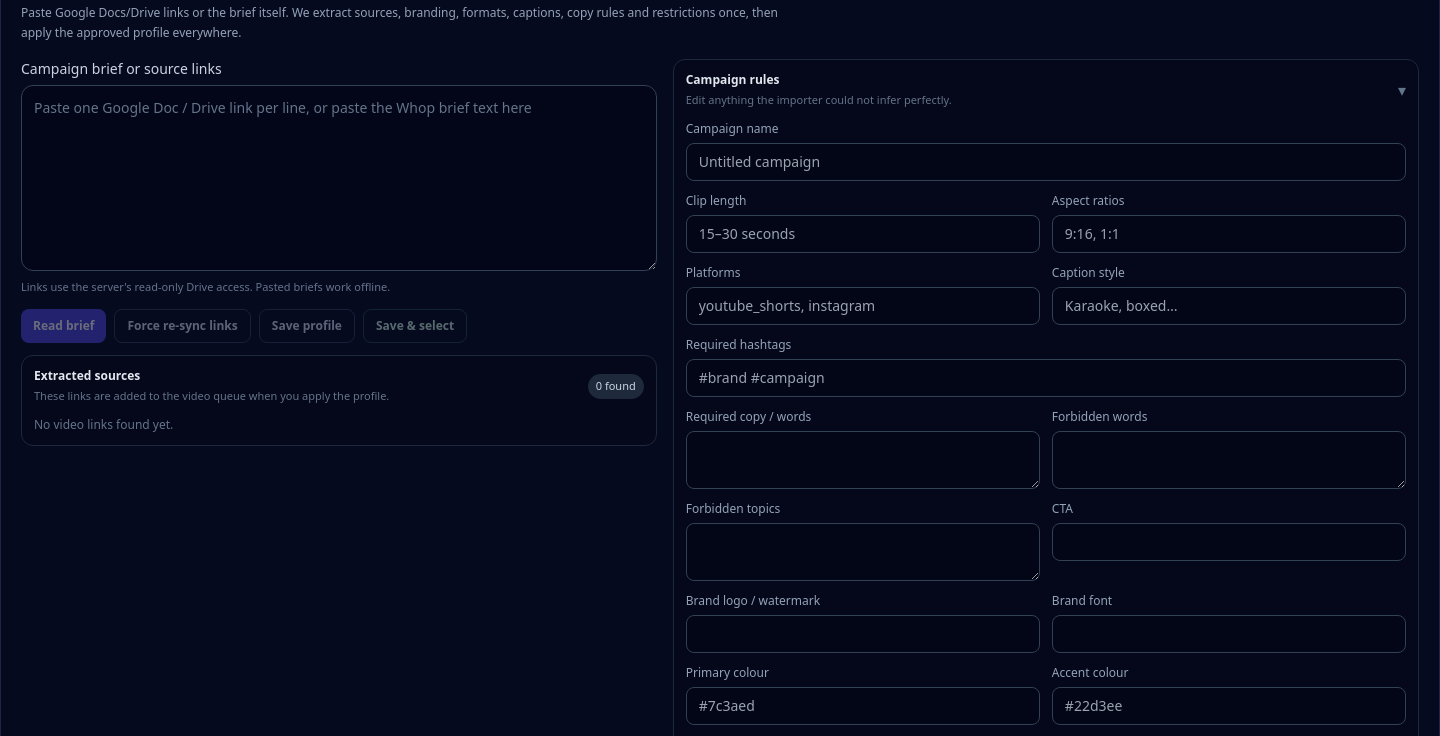
CampaignWorkspacePanel › imports a pasted brief once, shows extracted links, and applies all rules
Type "Campaign: Whop launch" into the text box labelled "Campaign brief or source links" at (339, 178), box [21,85,657,271]
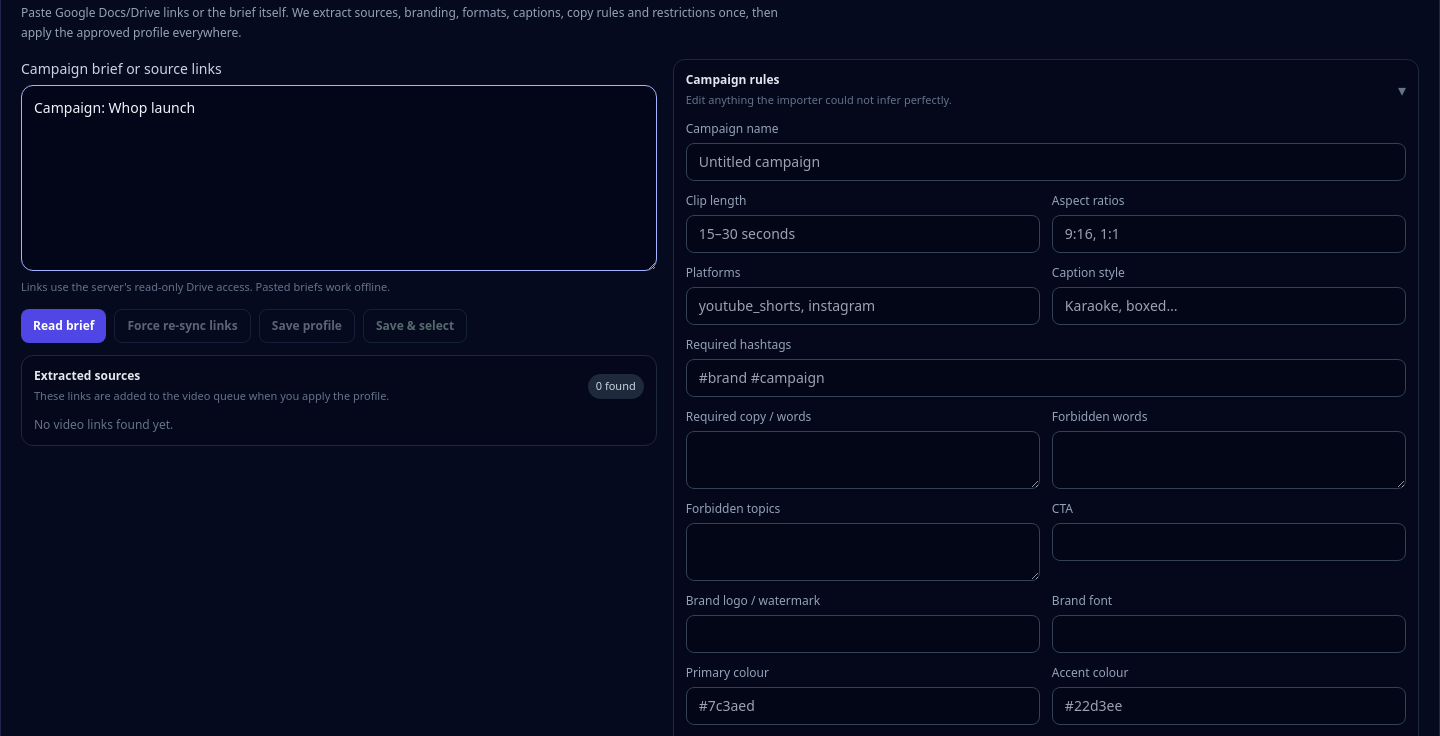
Click the button "Read brief" at (64, 326), box [21,309,106,343]
(page scrolled)
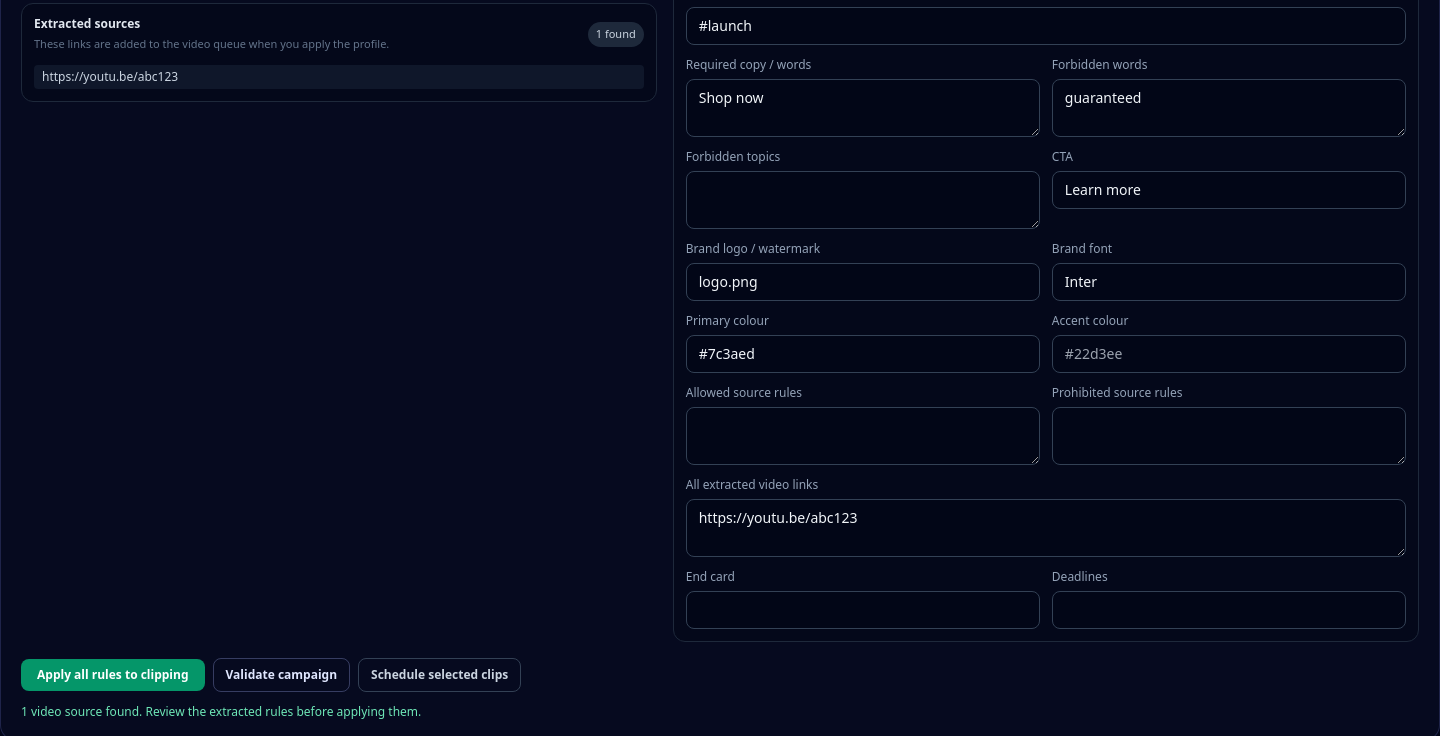
Result: the list item "https://youtu.be/abc123" is shown at [34,64,644,88]
Click the button "Apply all rules to clipping" at (113, 674), box [21,658,204,690]
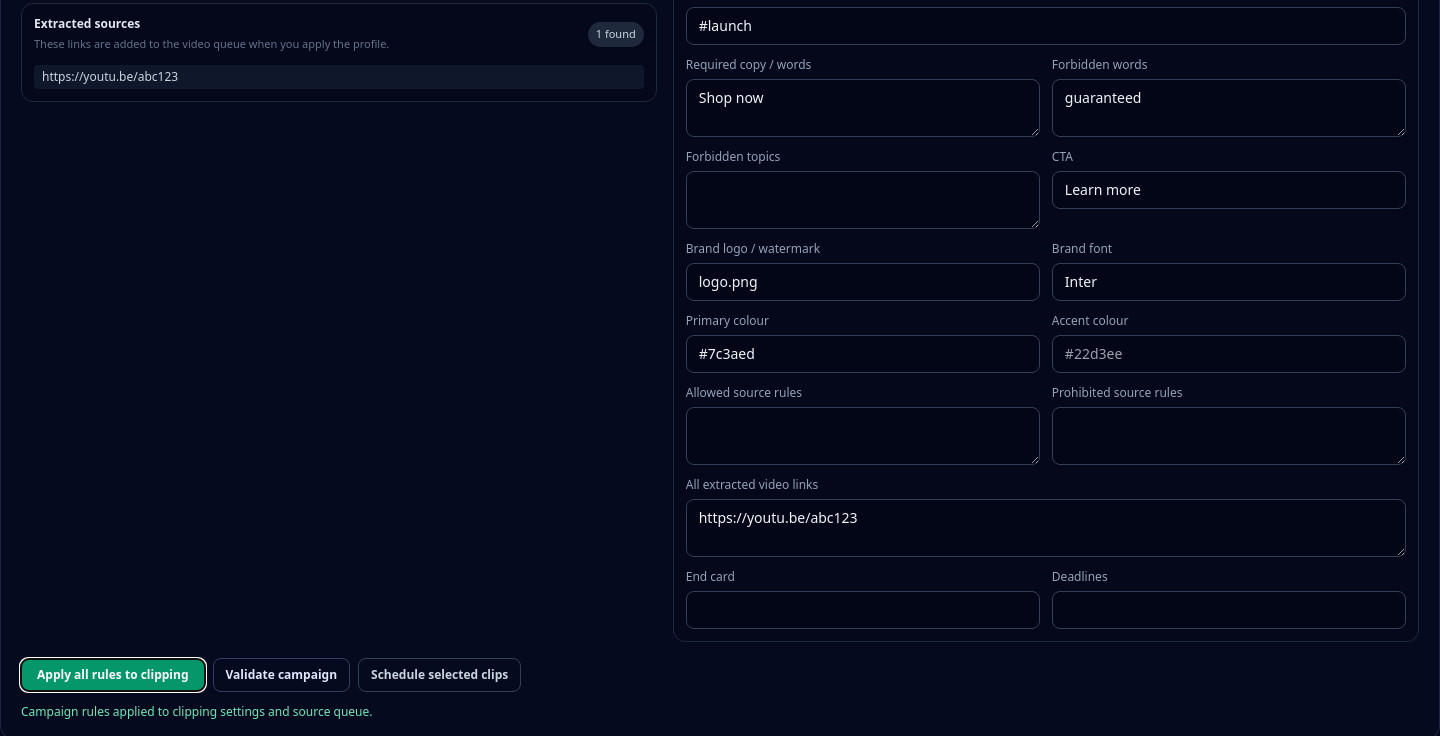
Result: the message shows "applied to clipping settings" at [21,702,372,720]
